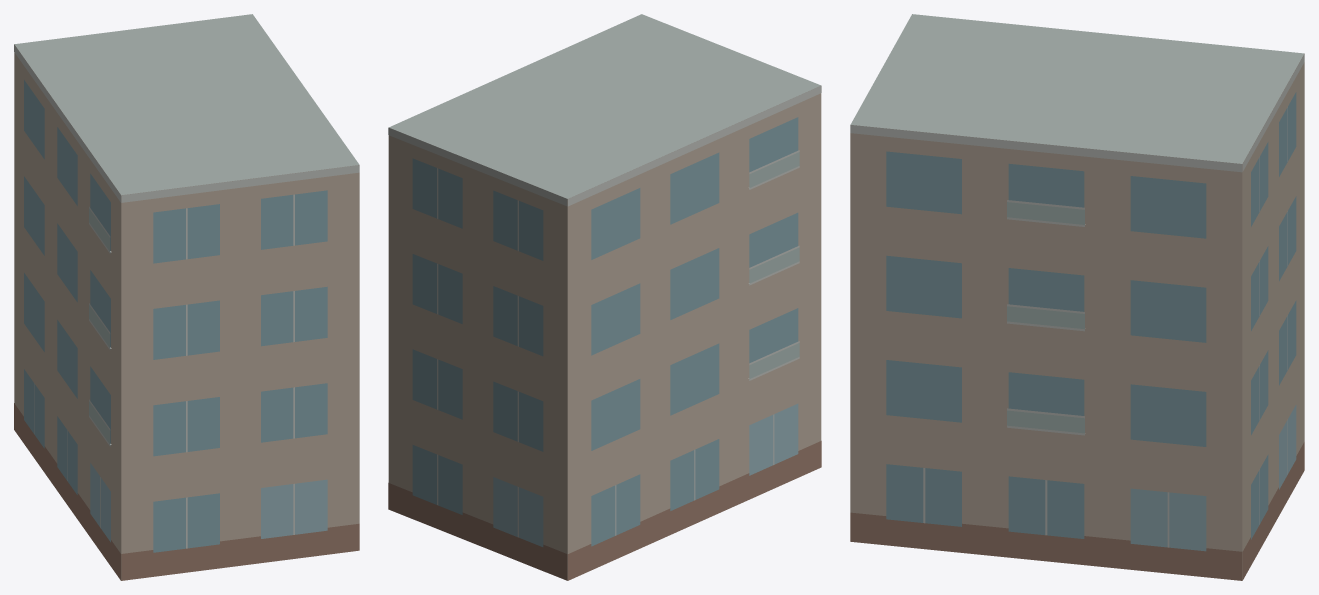
File: residential-65a2dbbb-7ad0-468b-9c58-6ff07ee0909e.glb
The picture shows the model from 3 angles, left to right: view 1: azimuth 30°, elevation 25°; view 2: azimuth 150°, elevation 25°; view 3: azimuth 270°, elevation 25°; orthographic projection. The views are drawn at different scales.
Parts seen in each view (by area): view 1: residential-65a2dbbb-7ad0-468b-9c58-6ff07ee0909e.tmp; view 2: residential-65a2dbbb-7ad0-468b-9c58-6ff07ee0909e.tmp; view 3: residential-65a2dbbb-7ad0-468b-9c58-6ff07ee0909e.tmp.
Part boxes in pixels (left/top/right/bottom): residential-65a2dbbb-7ad0-468b-9c58-6ff07ee0909e.tmp: left=14, top=14, right=359, bottom=580; residential-65a2dbbb-7ad0-468b-9c58-6ff07ee0909e.tmp: left=388, top=14, right=821, bottom=580; residential-65a2dbbb-7ad0-468b-9c58-6ff07ee0909e.tmp: left=850, top=14, right=1304, bottom=580.
Size of the model in its own units: 9.42 by 12.2 by 12.06.
